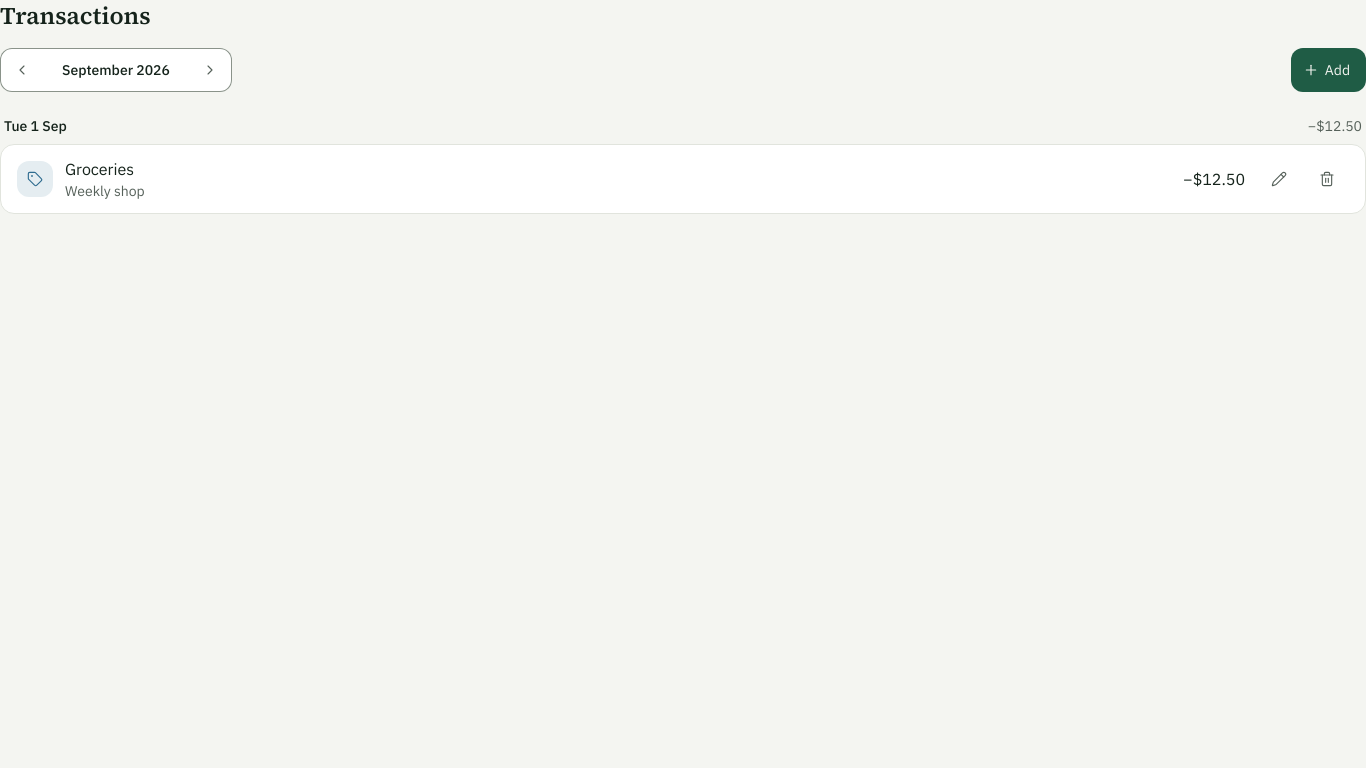
TransactionsPage delete confirmation › asks for confirmation before deleting, describing the transaction
Check: the text "Weekly shop" is shown, box [65,182,145,200]
Step 1. Click the button named "Delete" → (1327, 179), box [1305,157,1349,201]
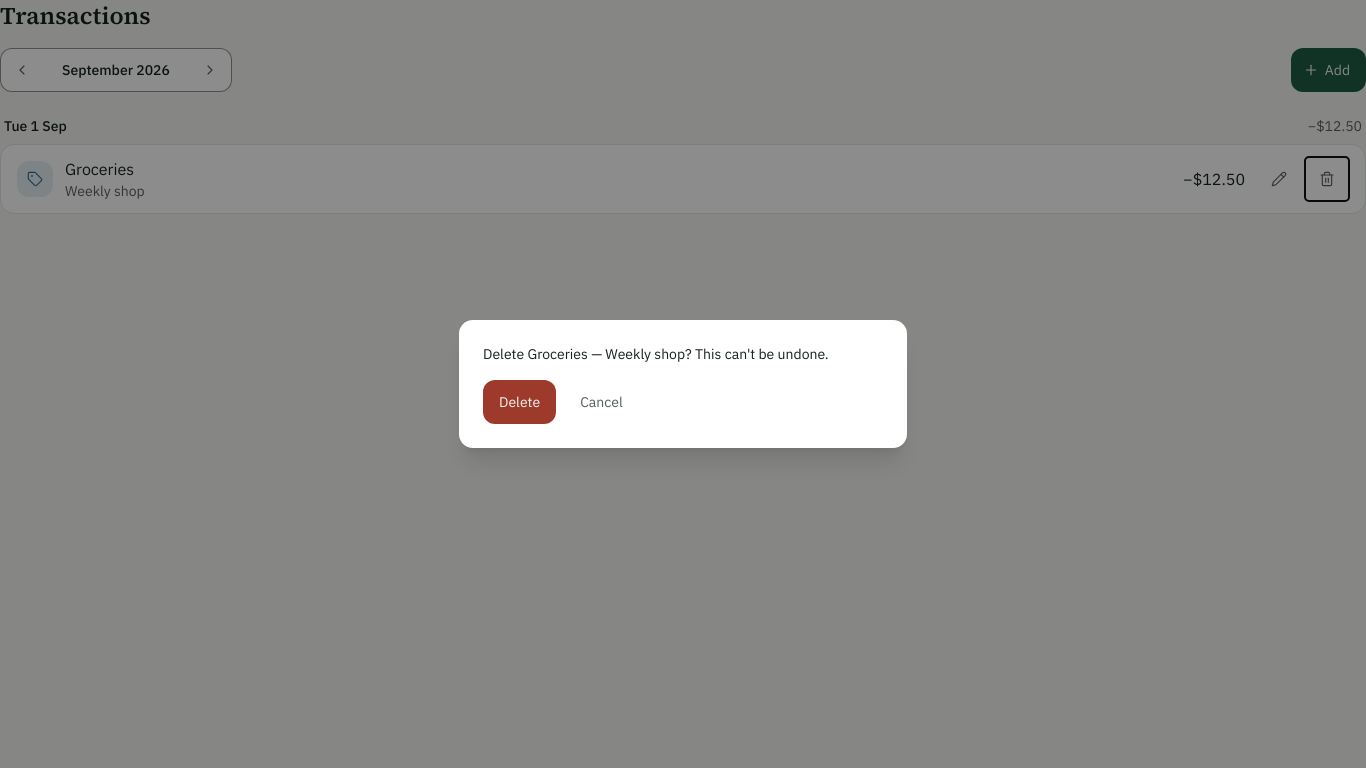
Check: the text "Delete Groceries — Weekly shop? This can't be undone." is shown, box [483,344,883,364]
